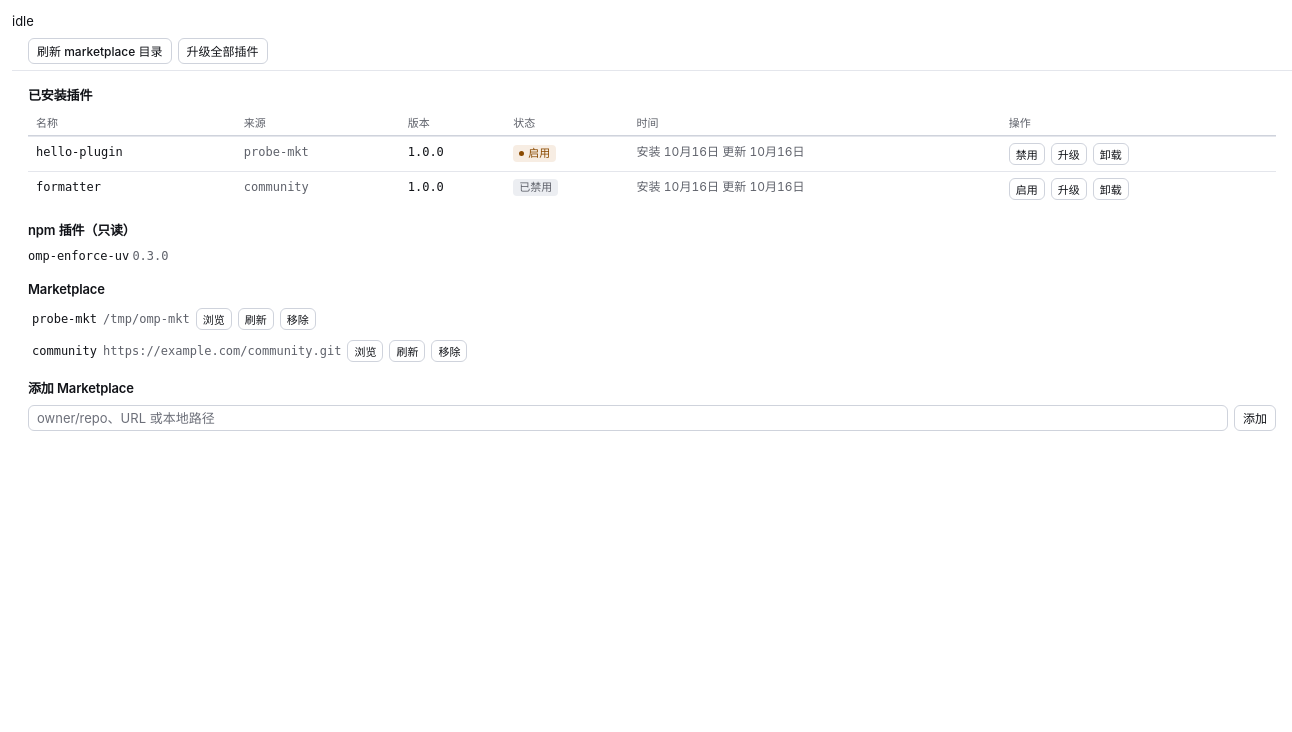
Test: PluginsPanel（有状态 mock） › 浏览 marketplace 并安装：加入已安装列表，按钮变为已安装
The image size is (1292, 732).
Click the button with aria-label "浏览 probe-mkt".
click(214, 319)  # box [196,308,232,330]
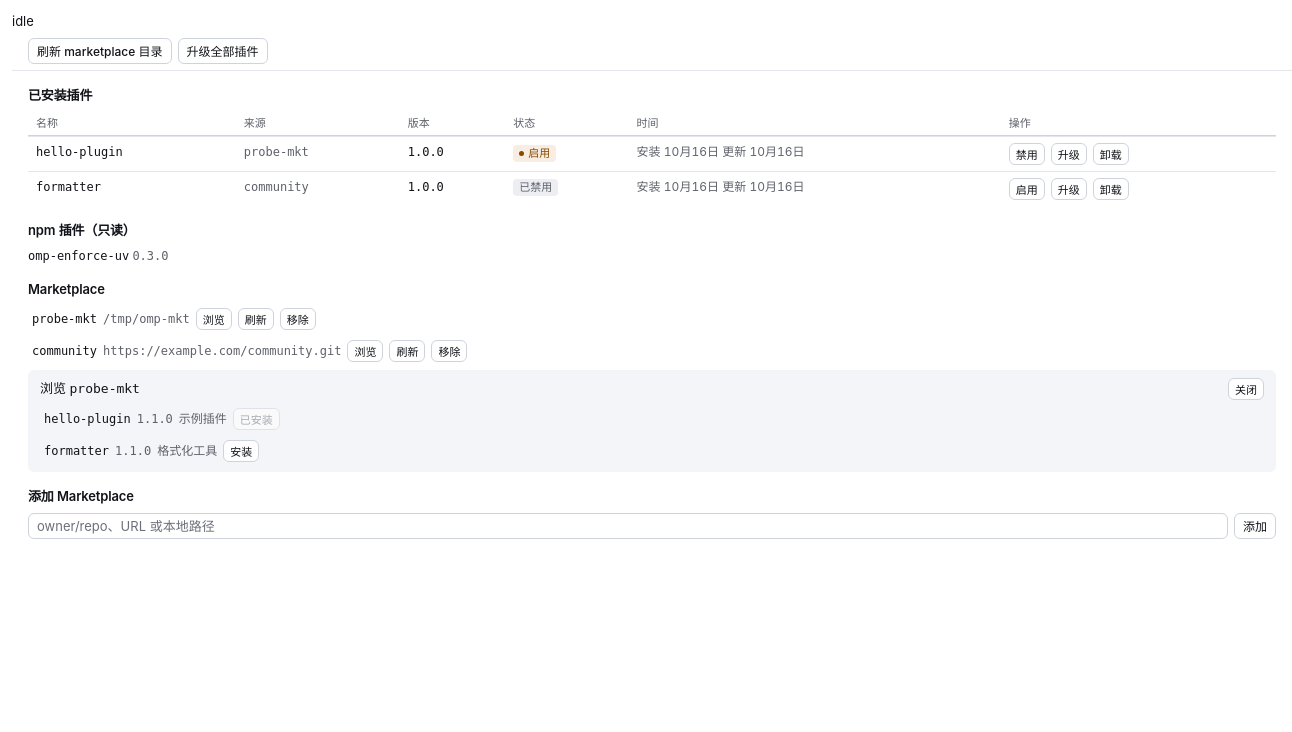
Result: the button with aria-label "安装 formatter@probe-mkt" is shown
Result: the button with aria-label "已安装 hello-plugin@probe-mkt" is disabled at [233,408,280,430]
Click the button with aria-label "安装 formatter@probe-mkt".
click(241, 451)  # box [223,440,259,462]
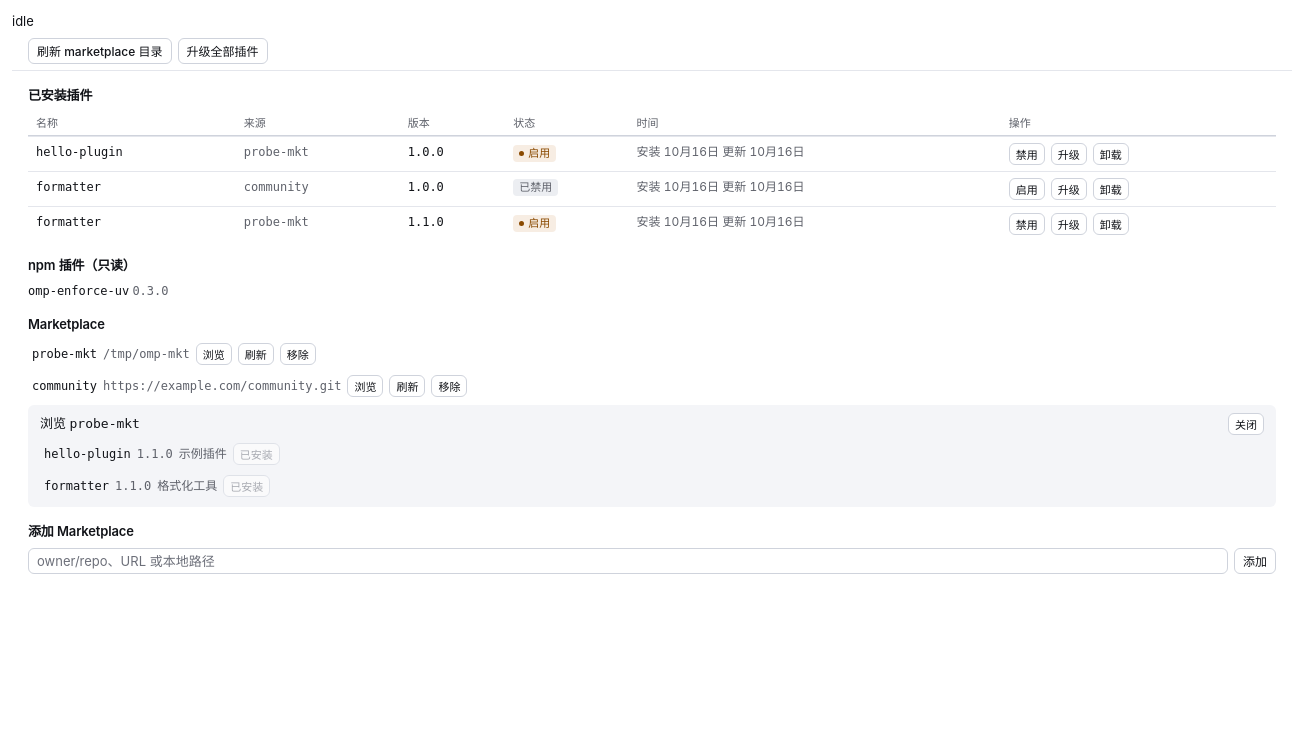
Result: the button with aria-label "已安装 formatter@probe-mkt" is disabled at [223,475,270,497]
Result: the row "formatter probe-mkt 1.1.0 启用 安装 10月16日 更新 10月16日 禁用 升级 卸载" is shown at [28,206,1276,241]
